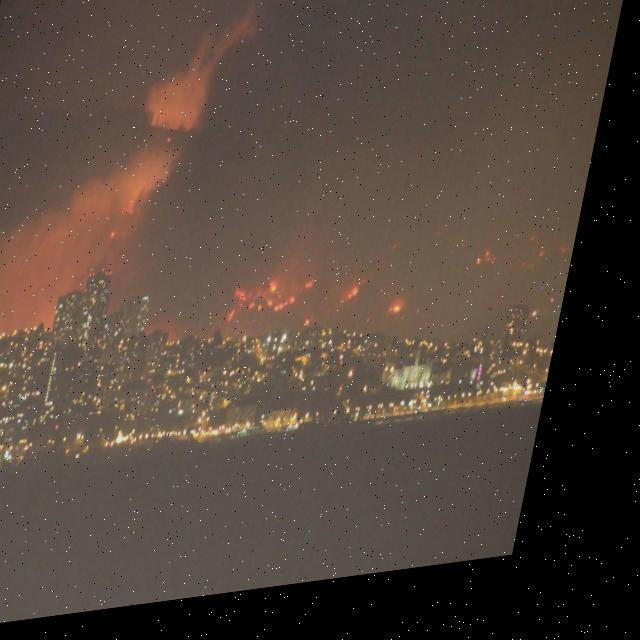Fire: (237, 266, 342, 330), (357, 286, 378, 314), (398, 308, 424, 330), (490, 264, 510, 287)
